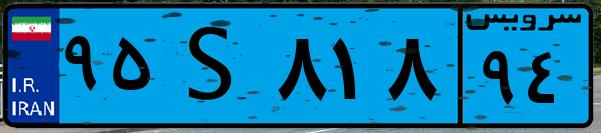1: (330, 28, 385, 110)
4: (525, 38, 570, 115)
5: (110, 28, 158, 98)
8: (270, 28, 330, 110), (385, 28, 445, 110)
9: (57, 26, 110, 100), (475, 38, 525, 113)
S: (158, 12, 270, 120)
